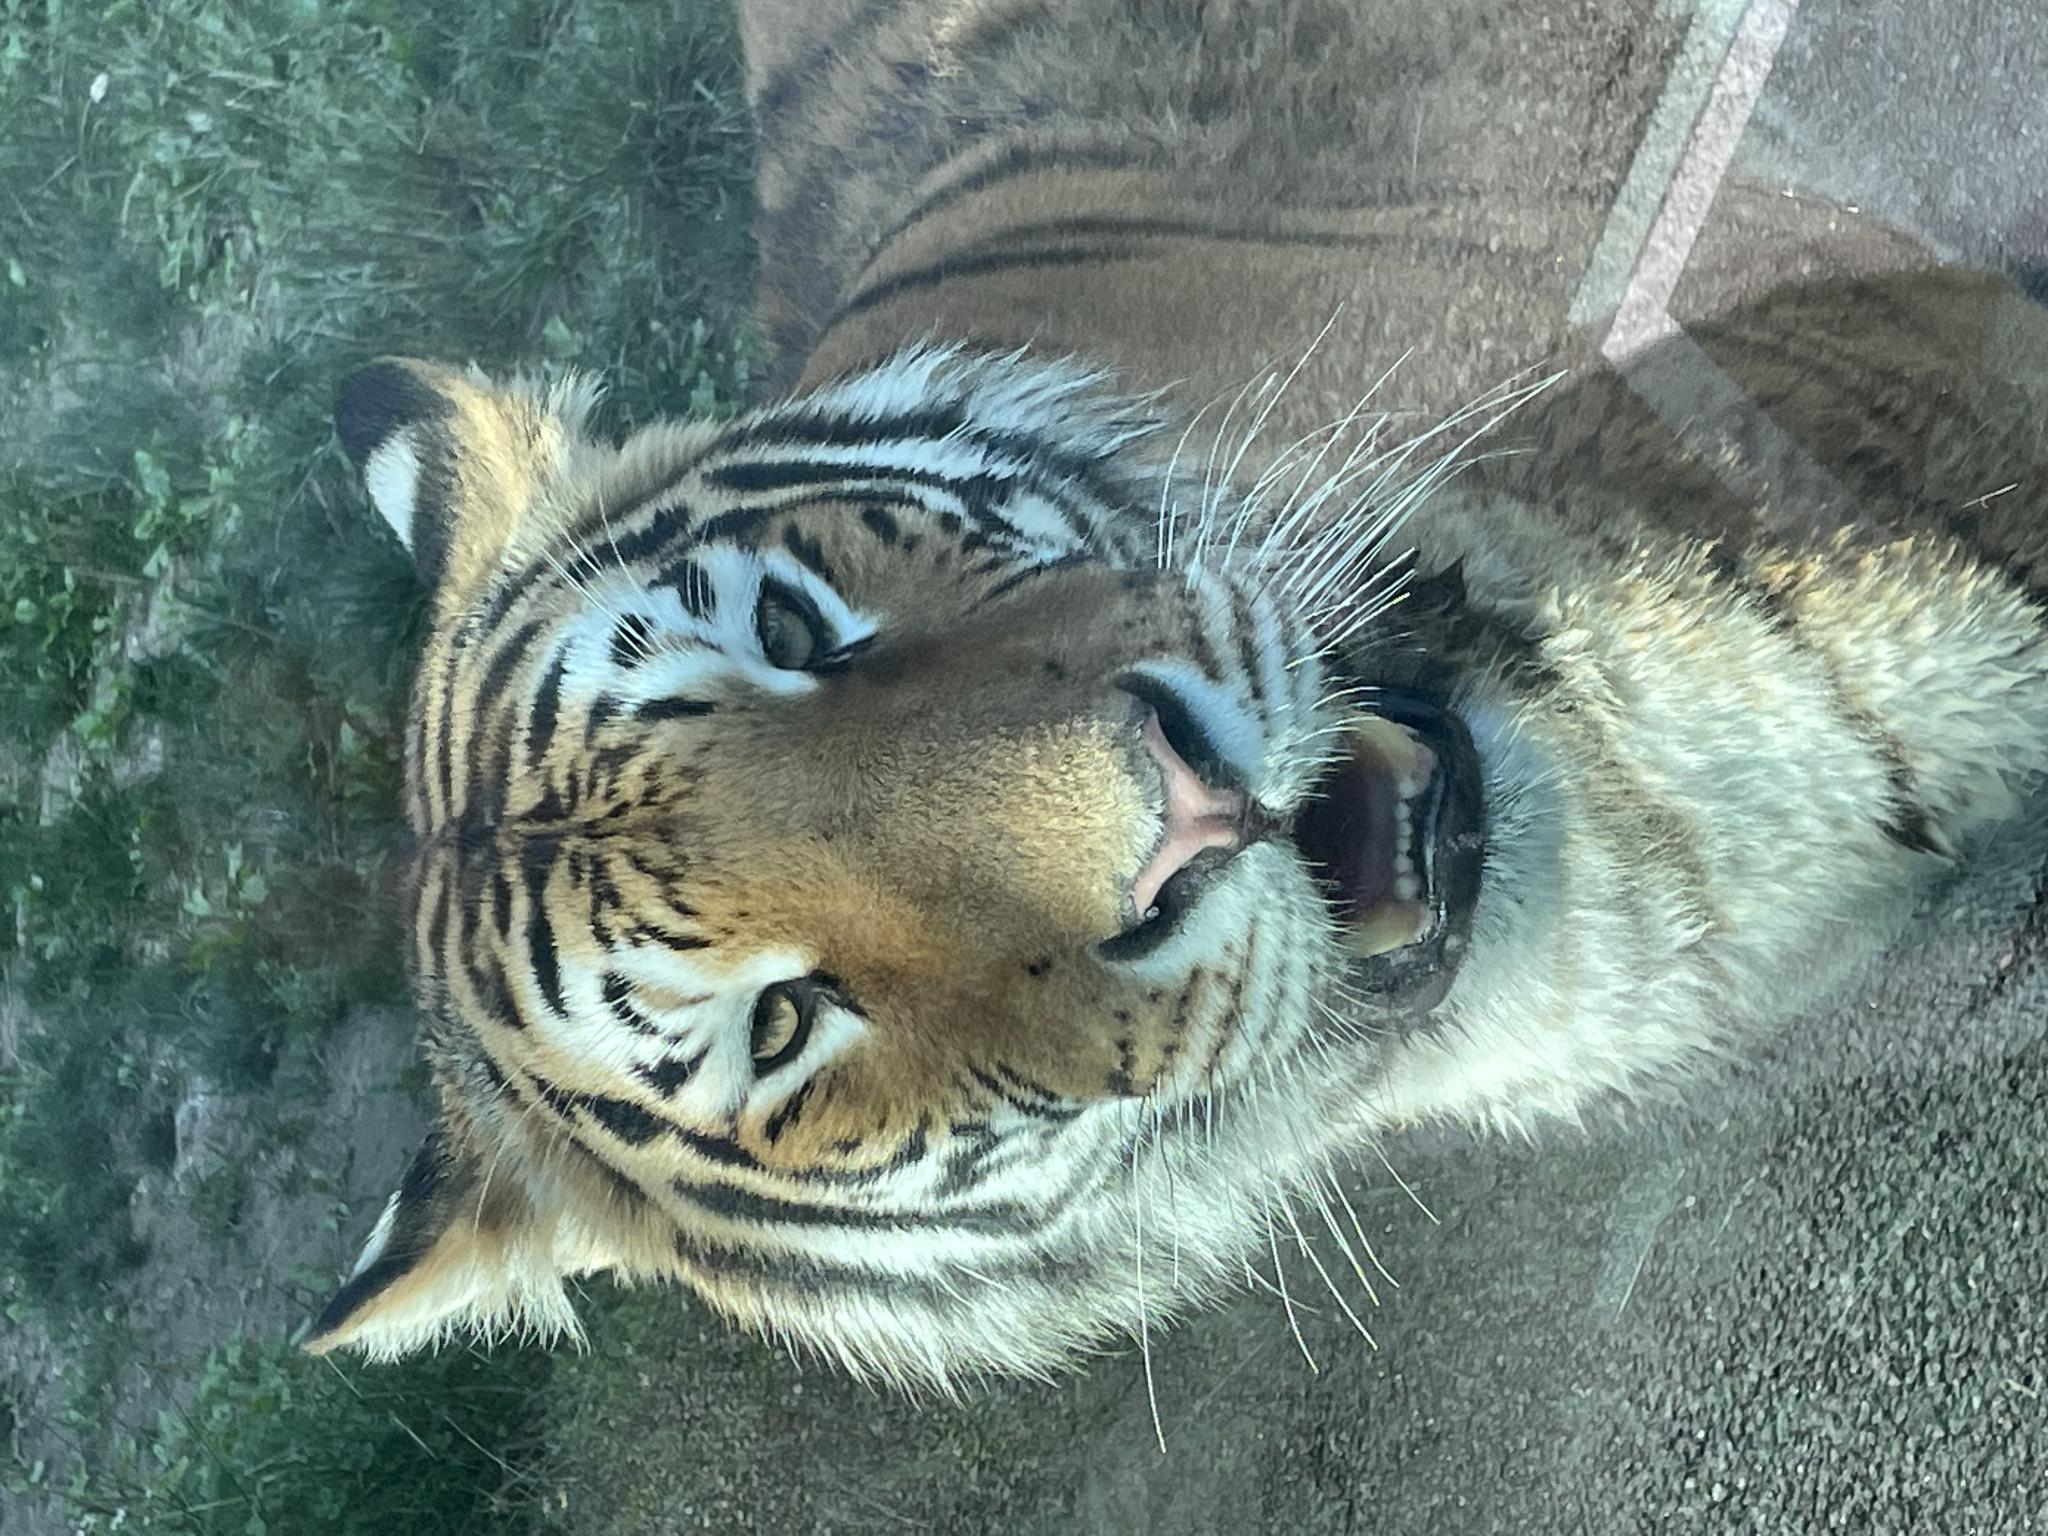tiger: (89, 298, 1532, 1536)
